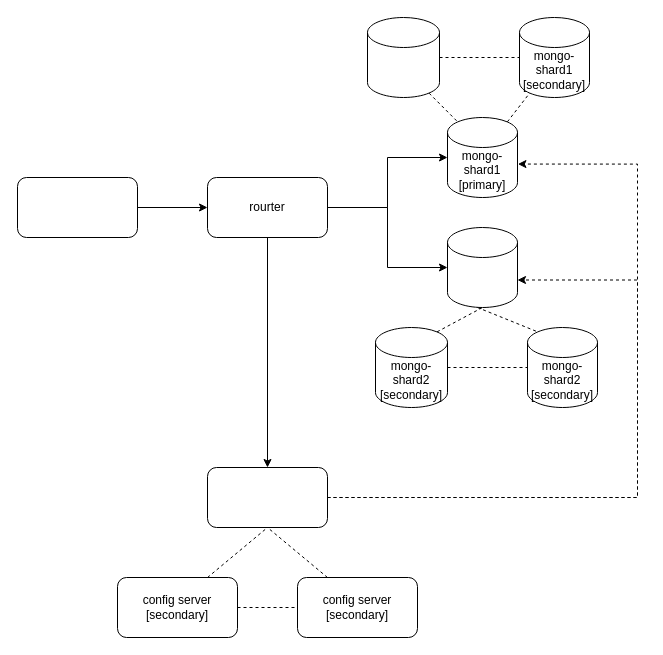
This 663x655 diagram has some shape labels left out. Each missing label, with the centre of its shape:
"config server [primary]" goes at point (267, 497).
"mongo-shard1[secondary]" goes at point (403, 57).
"mongo-shard2 [primary]" goes at point (482, 267).
"pymongo-api" goes at point (77, 207).
